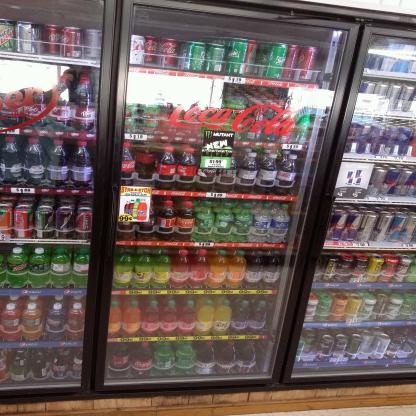Void: (319, 50, 326, 83), (138, 174, 152, 186), (405, 336, 413, 357)
